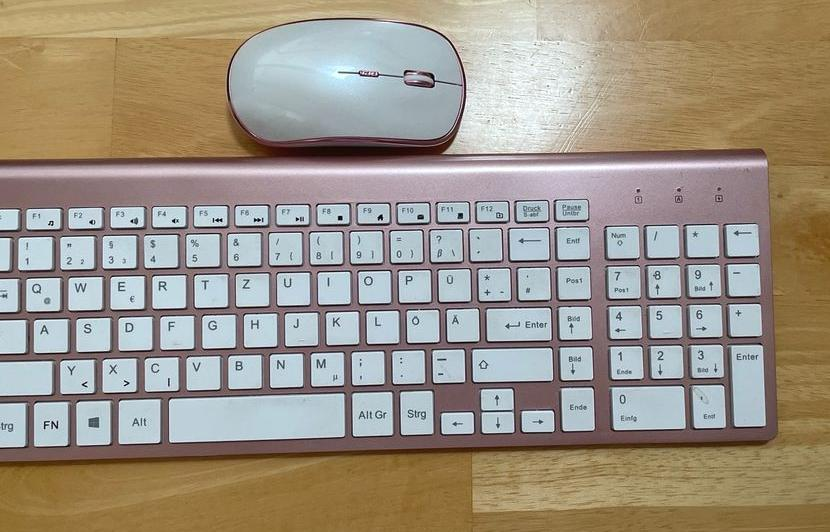0: (386, 226, 422, 262)
1: (15, 233, 52, 269)
2: (56, 233, 94, 268)
3: (98, 232, 136, 267)
4: (140, 231, 177, 267)
5: (182, 230, 219, 266)
6: (224, 229, 260, 265)
7: (266, 229, 302, 264)
8: (306, 228, 342, 263)
9: (346, 227, 382, 263)
a: (30, 315, 67, 351)
accent: (466, 225, 501, 260)
ae: (443, 305, 478, 341)
alt-left: (116, 395, 163, 443)
altgr-right: (348, 388, 393, 436)
b: (224, 351, 261, 388)
c: (141, 353, 179, 390)
caret: (1, 234, 16, 270)
comma: (348, 347, 383, 384)
d: (115, 313, 152, 350)
del: (506, 223, 549, 259)
e: (106, 272, 144, 308)
enter: (483, 304, 552, 340)
f: (157, 312, 193, 348)
g: (199, 311, 235, 347)
h: (240, 310, 276, 346)
hash: (514, 264, 549, 299)
i: (314, 267, 349, 303)
j: (281, 308, 317, 345)
k: (322, 307, 358, 343)
keyboard: (1, 146, 780, 467)
l: (363, 306, 398, 342)
m: (307, 348, 344, 386)
minus: (428, 346, 464, 382)
n: (266, 350, 303, 386)
o: (353, 267, 389, 302)
oe: (403, 306, 438, 342)
p: (394, 266, 429, 302)
plus: (474, 264, 510, 300)
point: (388, 347, 424, 382)
q: (21, 274, 60, 310)
r: (148, 271, 185, 307)
s: (72, 314, 110, 350)
shift-left: (1, 356, 52, 394)
shift-lock: (1, 316, 25, 353)
shift-right: (470, 344, 553, 381)
space: (167, 391, 344, 441)
ss: (425, 225, 461, 261)
strg-left: (1, 399, 27, 447)
strg-right: (396, 387, 434, 434)
t: (191, 270, 226, 306)
tab: (1, 275, 20, 311)
u: (273, 268, 309, 305)
ue: (434, 265, 470, 301)
v: (183, 352, 220, 389)
w: (64, 273, 101, 309)
x: (99, 354, 137, 391)
y: (56, 356, 94, 392)
z: (232, 269, 268, 305)
